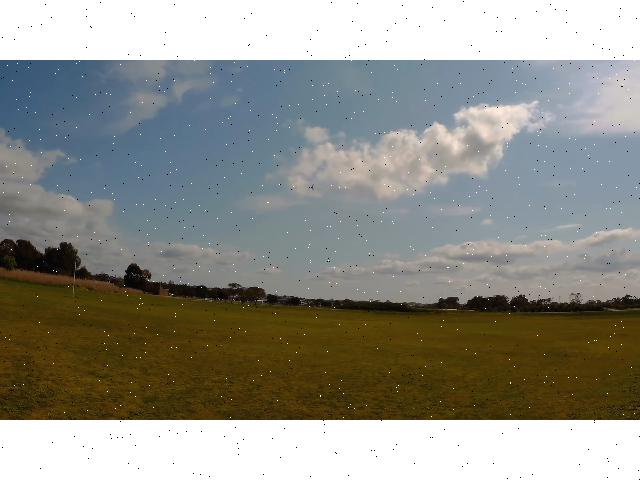Anti-Drone: (304, 181, 330, 196)
